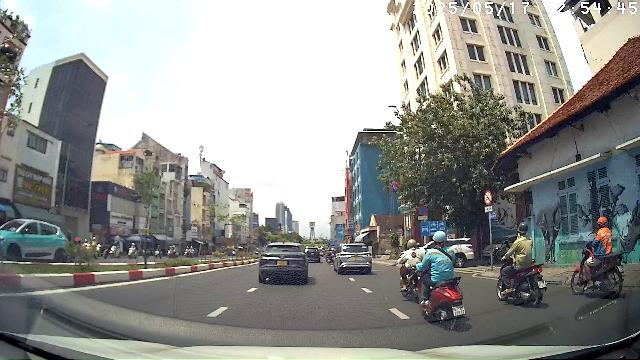103a-cam-oto: (484, 190, 493, 205)
